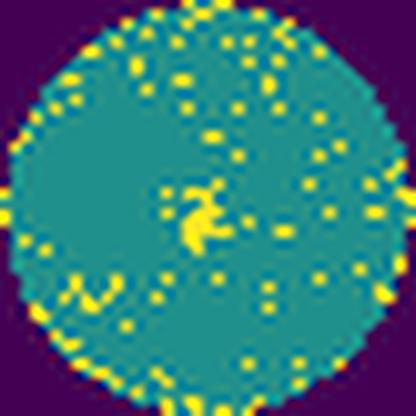Center: (177, 172, 239, 262)
